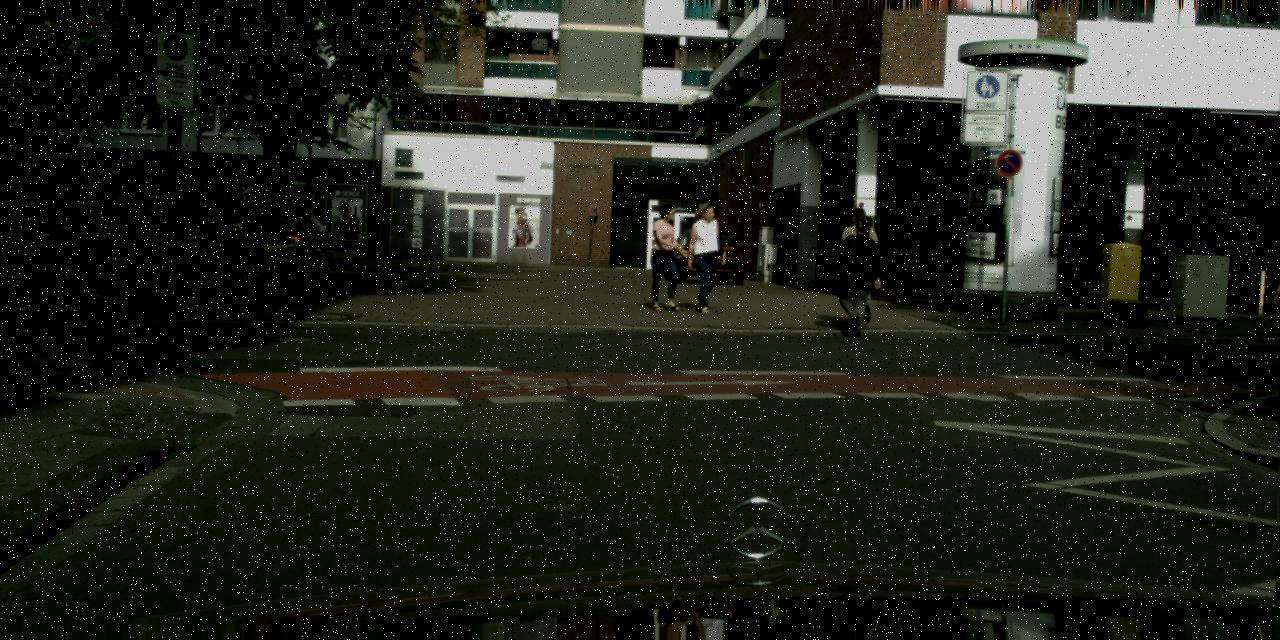ped: (836, 215, 883, 332), (836, 206, 881, 320), (683, 202, 726, 310), (646, 205, 688, 308)
